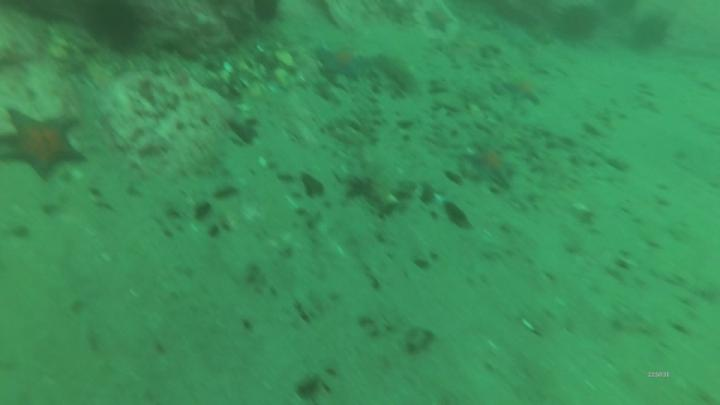echinus: (553, 1, 602, 51), (631, 12, 671, 51), (250, 1, 282, 29)
holothurian: (348, 79, 385, 147), (367, 53, 422, 98)
starfish: (1, 107, 91, 185), (461, 141, 521, 193), (313, 41, 369, 85), (499, 74, 546, 113), (1, 44, 38, 75), (425, 6, 456, 35)
